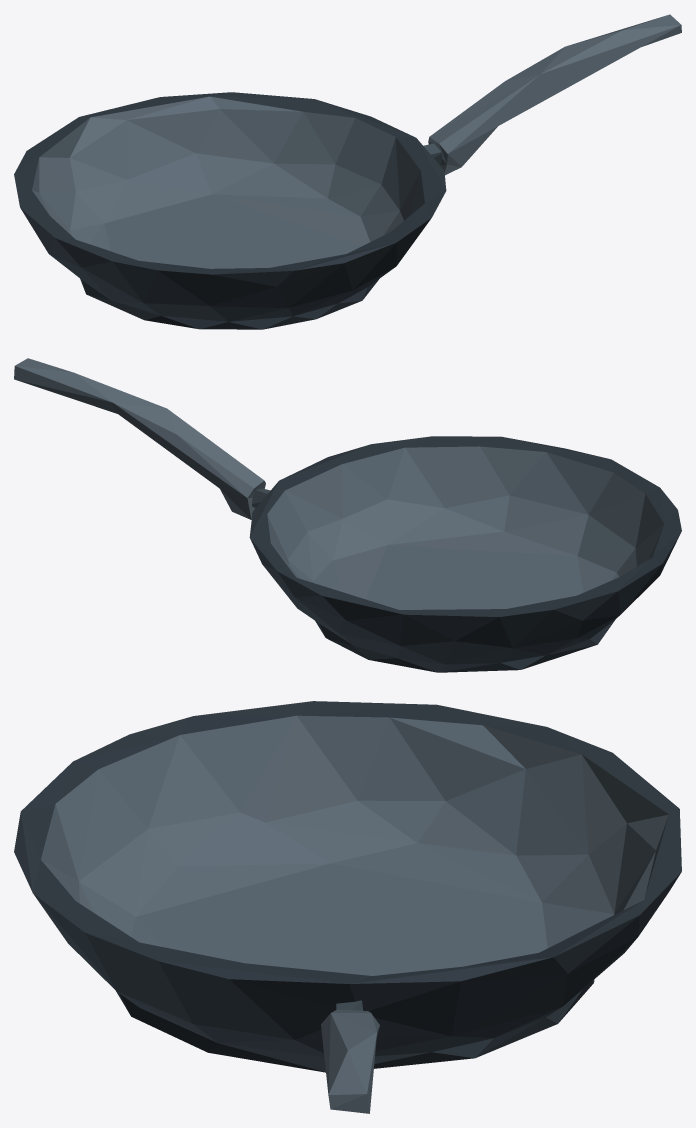
The model's file is Pan02.fbx.
The picture shows the model from 3 angles, top to bottom: view 1: azimuth 30°, elevation 25°; view 2: azimuth 150°, elevation 25°; view 3: azimuth 270°, elevation 25°; orthographic projection. The views are drawn at different scales.
Parts seen in each view (by area): view 1: Pan02LowPoly; view 2: Pan02LowPoly; view 3: Pan02LowPoly.
Part boxes in pixels (x1,y1,x2,y2): Pan02LowPoly: (14, 14, 681, 329); Pan02LowPoly: (14, 358, 681, 672); Pan02LowPoly: (14, 701, 681, 1113).
Bounding box in the file's own units: 40.34 × 8.47 × 23.67.
